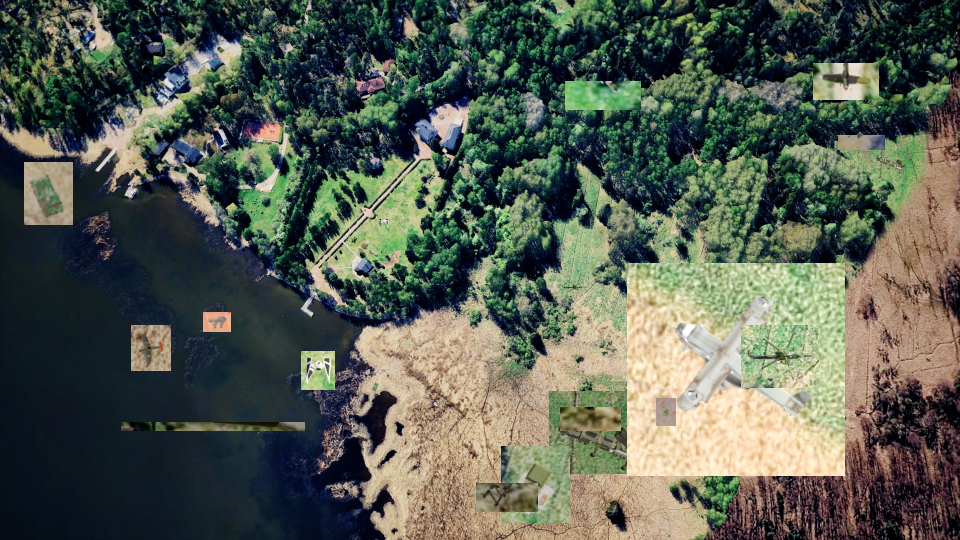condor: (627, 263, 845, 476)
hangar: (121, 422, 305, 431)
helicopter: (741, 325, 819, 388)
jammer: (24, 162, 73, 225)
jet_plane: (565, 81, 641, 110)
large_launcher: (549, 391, 657, 474)
large_tower: (476, 483, 538, 512)
medium_launcher: (560, 407, 621, 431)
medium_plane: (813, 63, 879, 100)
mine_roller: (637, 271, 683, 323)
small_launcher: (656, 398, 676, 426)
small_plane: (131, 325, 171, 371)
small_tower: (501, 446, 570, 523)
spacecraft: (301, 351, 335, 390)
ta-ta: (203, 312, 231, 332)
tank: (838, 135, 885, 150)
